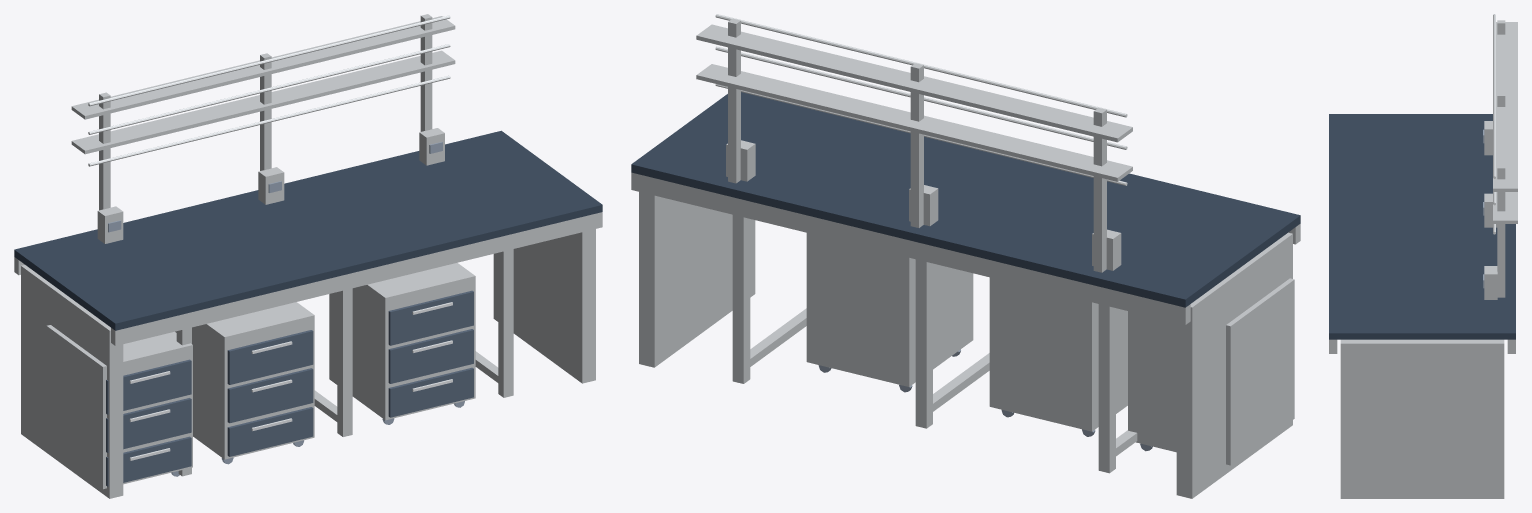
File: bench.glb
3 renders of one model, left to right at view 1: azimuth 30°, elevation 25°; view 2: azimuth 150°, elevation 25°; view 3: azimuth 270°, elevation 25°, orthographic. The views are drawn at different scales.
Parts seen in each view (by area): view 1: Worktop, EndPanel_R, Ped0_Carcass, EndPanel_L, Ped2_Carcass, Ped1_Carcass, Apron_Front, Shelf_1.80, Shelf_2.48, Ped1_Drawer0, Ped1_Drawer1, Ped2_Drawer0 (+17 smaller); view 2: Worktop, Ped2_Carcass, Ped0_Carcass, Ped1_Carcass, EndPanel_R, EndPanel_L, Apron_Back, Shelf_2.48, Shelf_1.80, Leg_3_1, Leg_0_1, Leg_-3_1 (+8 smaller); view 3: Worktop, EndPanel_R, Shelf_2.48, Upright_3, Shelf_1.80, Rail_2.70, Fixture_3, Fixture_0, Fixture_-3.
Part boxes in pixels (bbox=[...]): Worktop: bbox=[14, 130, 602, 330]; EndPanel_R: bbox=[493, 229, 595, 383]; Ped0_Carcass: bbox=[46, 325, 192, 489]; EndPanel_L: bbox=[21, 265, 123, 498]; Ped2_Carcass: bbox=[329, 262, 475, 420]; Ped1_Carcass: bbox=[175, 302, 314, 459]; Apron_Front: bbox=[111, 212, 602, 345]; Shelf_1.80: bbox=[71, 50, 455, 154]; Shelf_2.48: bbox=[71, 16, 455, 119]; Ped1_Drawer0: bbox=[227, 330, 313, 384]; Ped1_Drawer1: bbox=[227, 368, 313, 423]; Ped2_Drawer0: bbox=[388, 290, 473, 345]; Worktop: bbox=[631, 92, 1300, 307]; Ped2_Carcass: bbox=[806, 233, 973, 386]; Ped0_Carcass: bbox=[1128, 278, 1294, 465]; Ped1_Carcass: bbox=[989, 277, 1127, 431]; EndPanel_R: bbox=[639, 192, 755, 367]; EndPanel_L: bbox=[1176, 232, 1292, 498]; Apron_Back: bbox=[631, 172, 1190, 324]; Shelf_2.48: bbox=[696, 24, 1132, 142]; Shelf_1.80: bbox=[696, 64, 1132, 181]; Leg_3_1: bbox=[732, 215, 750, 383]; Leg_0_1: bbox=[915, 259, 932, 428]; Leg_-3_1: bbox=[1098, 304, 1115, 473]; Worktop: bbox=[1329, 114, 1515, 339]; EndPanel_R: bbox=[1340, 339, 1504, 498]; Shelf_2.48: bbox=[1493, 22, 1517, 191]; Upright_3: bbox=[1497, 165, 1505, 297]; Shelf_1.80: bbox=[1493, 192, 1517, 223]; Rail_2.70: bbox=[1493, 14, 1495, 178]; Fixture_3: bbox=[1484, 266, 1497, 299]; Fixture_0: bbox=[1484, 193, 1497, 227]; Fixture_-3: bbox=[1484, 121, 1492, 155].
Size of what is drawn, in the model's own units: 10.08 by 6.33 by 3.64.
